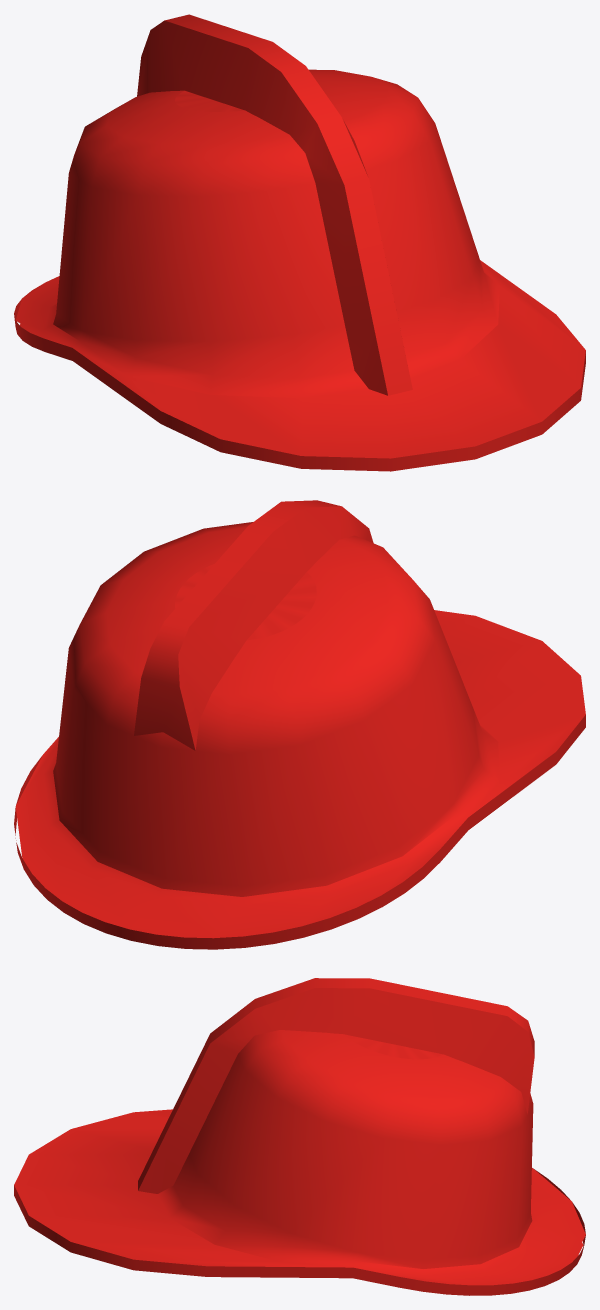
Rendered from firefighter-cap.fbx.
The picture shows the model from 3 angles, top to bottom: view 1: azimuth 30°, elevation 25°; view 2: azimuth 150°, elevation 25°; view 3: azimuth 270°, elevation 25°; orthographic projection. The views are drawn at different scales.
Visible parts, largest first — view 1: Inner-Node-UntitledModel_dot_io-0.001; view 2: Inner-Node-UntitledModel_dot_io-0.001; view 3: Inner-Node-UntitledModel_dot_io-0.001.
Boxes of the visible parts, x1=… form: Inner-Node-UntitledModel_dot_io-0.001: x1=14, y1=14, x2=585, y2=471; Inner-Node-UntitledModel_dot_io-0.001: x1=14, y1=500, x2=585, y2=949; Inner-Node-UntitledModel_dot_io-0.001: x1=14, y1=978, x2=585, y2=1295.
Bounding box in the file's own units: 127 × 97.29 × 192.
